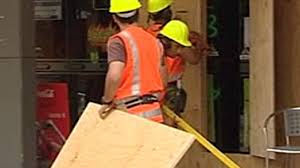hard hat: (159, 19, 192, 47), (108, 1, 142, 14), (146, 1, 175, 13)
high-vis: (109, 25, 164, 122)
